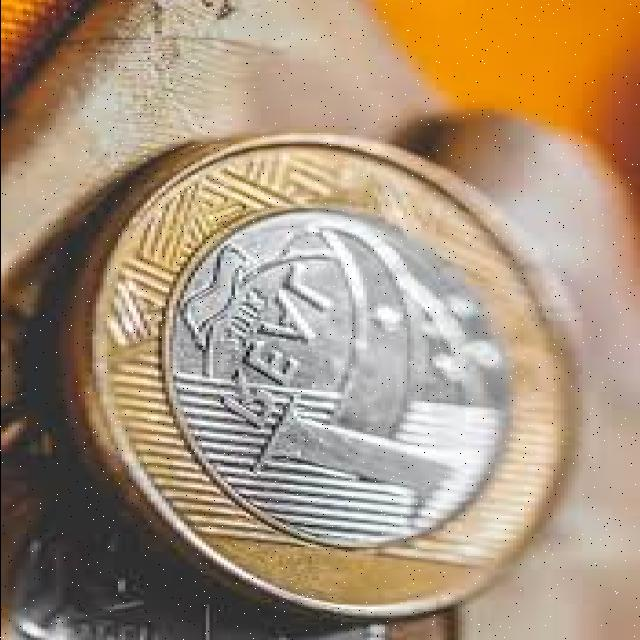1 real: (91, 141, 579, 601)
